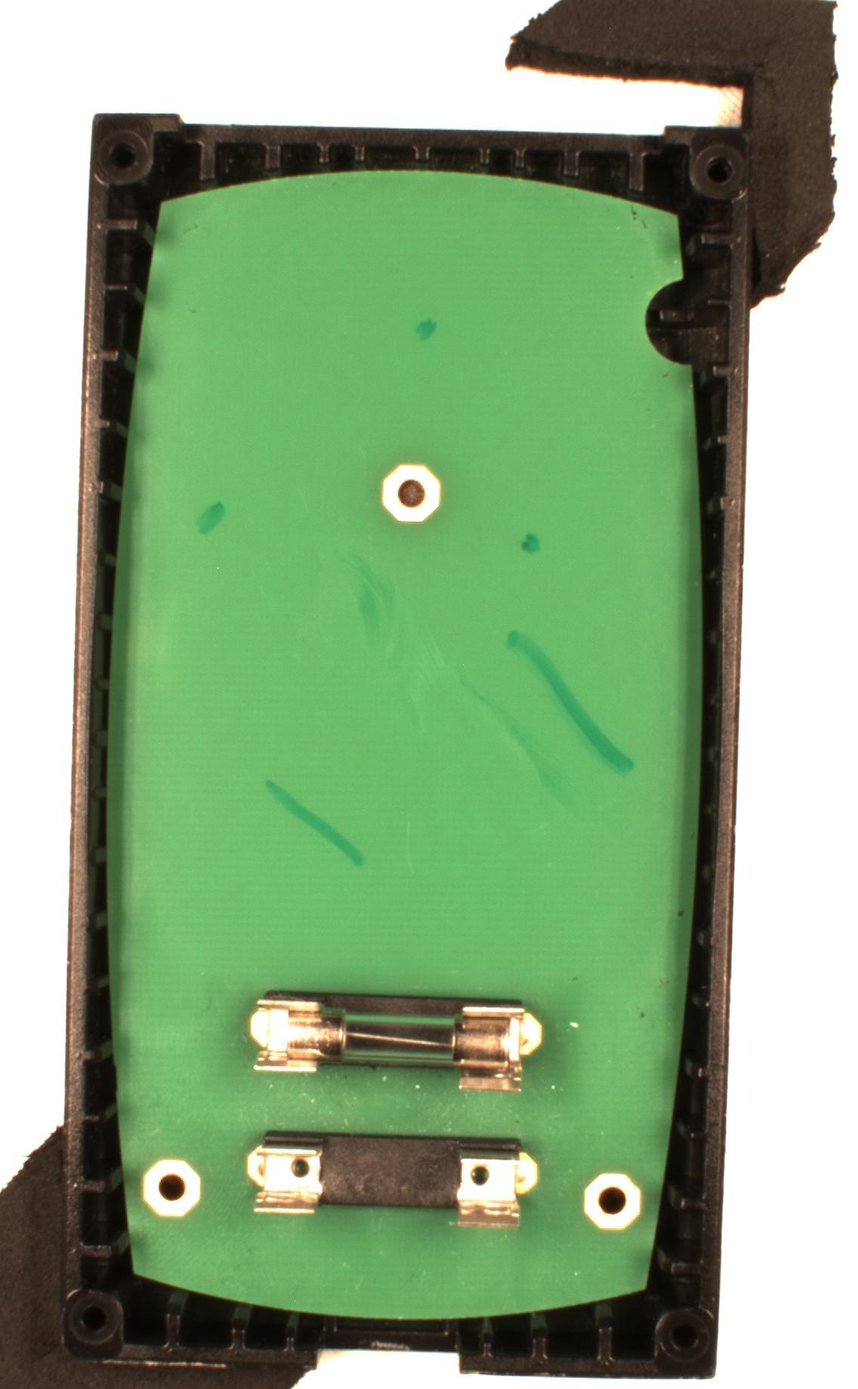Linijsko Ostecene: (504, 629, 636, 779), (468, 685, 576, 811), (264, 778, 367, 868)
Nepostojanje osiguraca: (246, 1127, 539, 1231)
Tockasto Ostecenje: (195, 501, 226, 537), (413, 318, 440, 342), (518, 531, 543, 556)
